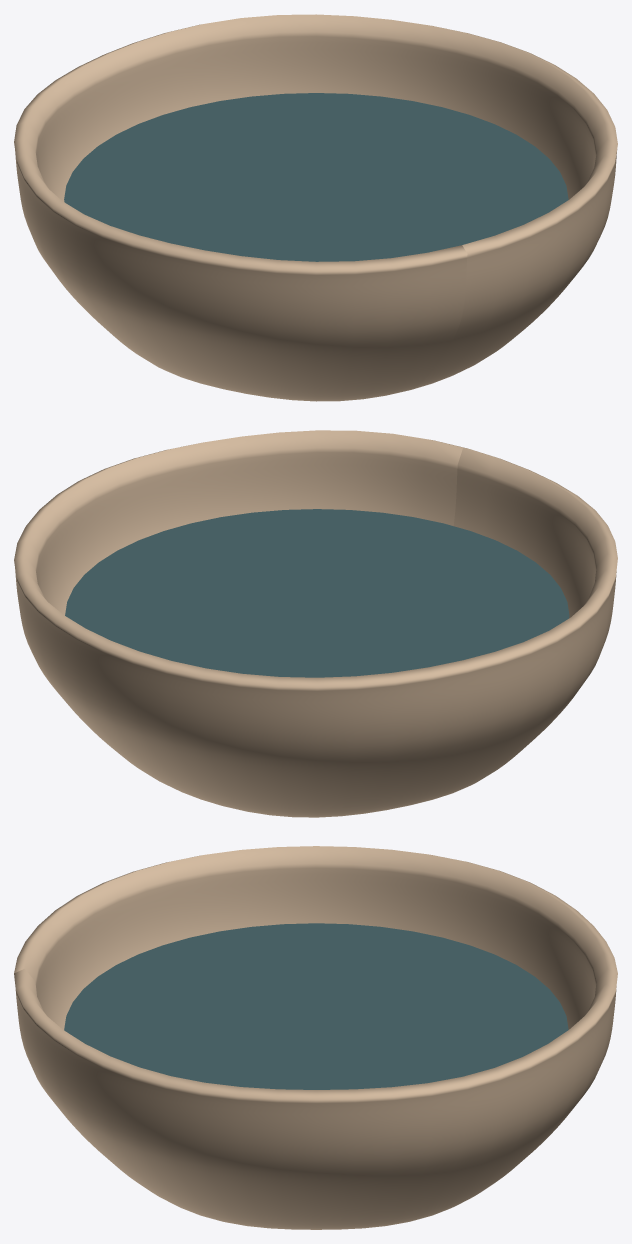
File: water-bowl-v2.glb
3 renders of one model, top to bottom at view 1: azimuth 30°, elevation 25°; view 2: azimuth 150°, elevation 25°; view 3: azimuth 270°, elevation 25°, orthographic.
Parts seen in each view (by area): view 1: Hand thrown body with inner wall, Water surface; view 2: Hand thrown body with inner wall, Water surface; view 3: Hand thrown body with inner wall, Water surface.
Boxes of the visible parts, box(x1,y1,x2,y2) form: Hand thrown body with inner wall: box(14, 14, 617, 401); Water surface: box(64, 93, 568, 261); Hand thrown body with inner wall: box(14, 430, 617, 817); Water surface: box(65, 509, 569, 677); Hand thrown body with inner wall: box(14, 846, 617, 1229); Water surface: box(64, 923, 568, 1089).
Size of the model in its own units: 0.34 by 0.1244 by 0.34.
